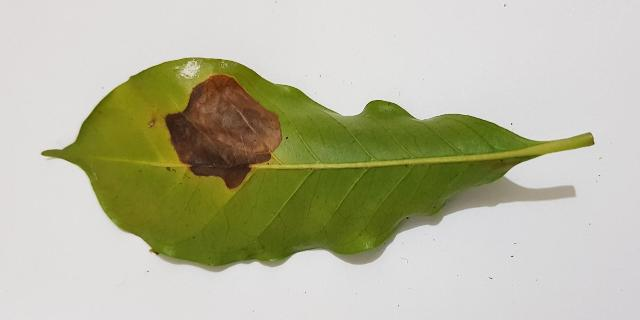cercospora: (164, 74, 282, 189)
